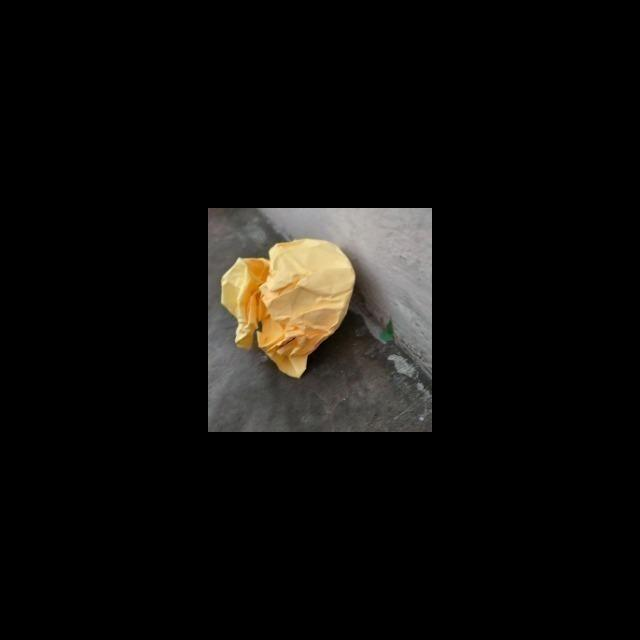paper: (212, 225, 363, 383)
